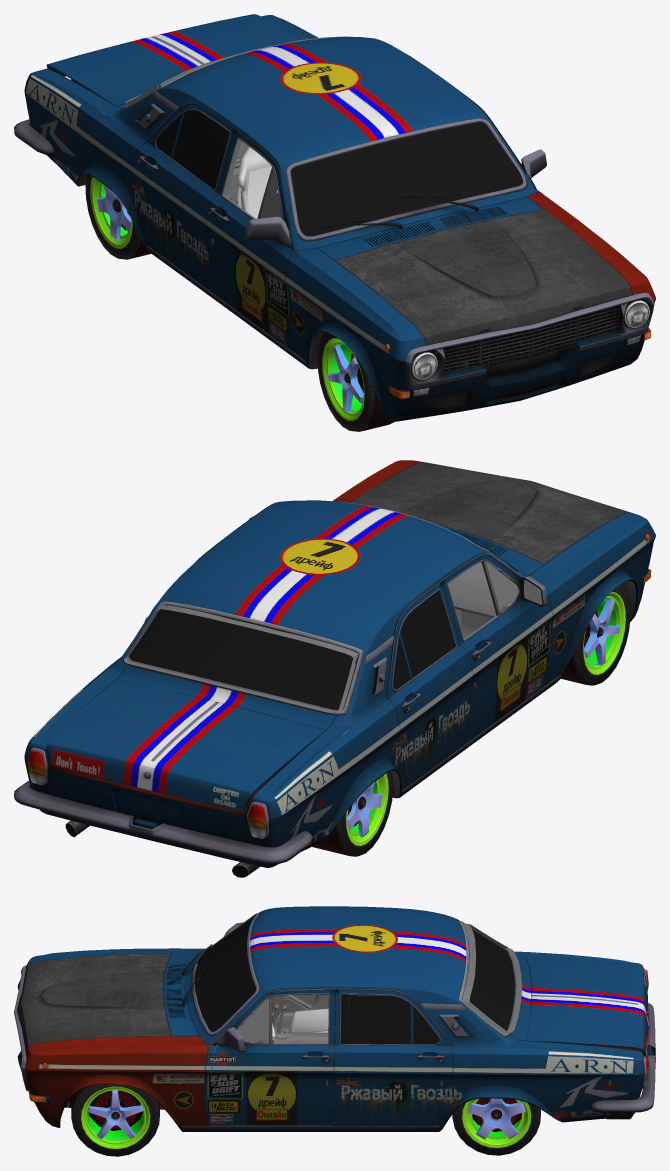
The model's file is Volga.fbx.
3 renders of one model, top to bottom at view 1: azimuth 30°, elevation 25°; view 2: azimuth 150°, elevation 25°; view 3: azimuth 270°, elevation 25°, orthographic. The views are drawn at different scales.
Visible parts, largest first — view 1: Volga_body, volga_hood_02, windscreen, door_r, rear_panel, Grill_full, r_Front_tyre, hood_grill, r_Rear_tyre, seats_lo, seats_hi, rear_bumper (+1 smaller); view 2: Volga_body, rear_panel, windscreen, volga_hood_02, door_r, rear_bumper, Interior_low, r_Front_tyre, r_Rear_tyre, hood_grill; view 3: Volga_body, door_l, volga_hood_02, windscreen, rear_panel, l_Front_tyre, l_Rear_tyre, Interior_low, hood_grill, rear_bumper, int_door_r, seats_hi.
Part boxes in pixels (x1,y1,x2,y2): Volga_body: (24,15,655,421); volga_hood_02: (335,209,632,345); windscreen: (156,110,522,236); door_r: (205,130,293,348); rear_panel: (46,14,301,106); Grill_full: (443,304,620,373); r_Front_tyre: (317,332,394,431); hood_grill: (318,196,543,260); r_Rear_tyre: (85,174,151,259); seats_lo: (237,166,271,218); seats_hi: (238,146,271,213); rear_bumper: (14,119,53,156); Volga_body: (24,460,655,877); rear_panel: (46,679,325,812); windscreen: (129,590,455,709); volga_hood_02: (350,462,630,564); door_r: (442,554,553,741); rear_bumper: (14,780,312,864); Interior_low: (124,562,496,712); r_Front_tyre: (561,584,630,685); r_Rear_tyre: (312,770,393,856); hood_grill: (438,525,543,576); Volga_body: (14,906,648,1131); door_l: (204,989,335,1125); volga_hood_02: (17,953,171,1051); windscreen: (195,916,515,1044); rear_panel: (526,958,649,1057); l_Front_tyre: (71,1083,159,1156); l_Rear_tyre: (452,1098,540,1155); Interior_low: (211,923,522,1117); hood_grill: (163,953,199,1036); rear_bumper: (591,1003,655,1112); int_door_r: (272,994,328,1028); seats_hi: (289,1008,328,1032).
Size of the model in its own units: 2.16 by 1.43 by 4.94.
